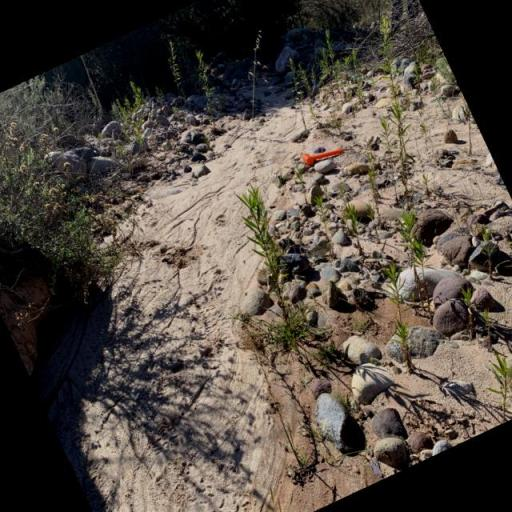mallet: (300, 137, 347, 174)
